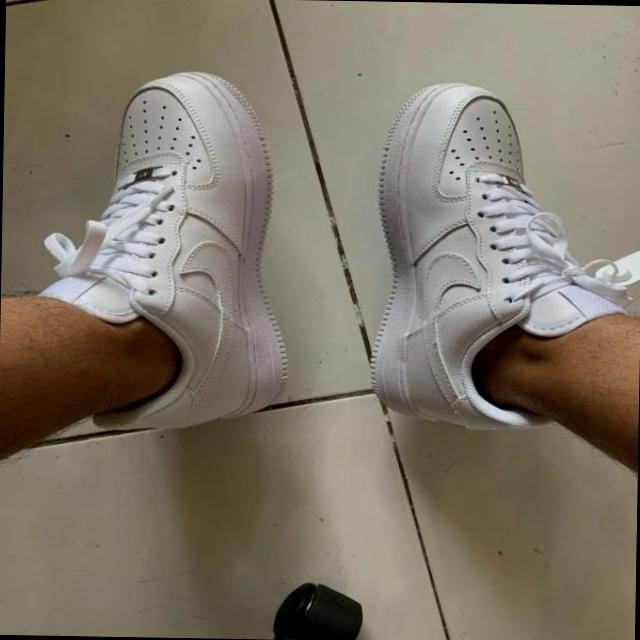nike_original_airforce: (23, 68, 334, 439), (361, 82, 640, 432)
